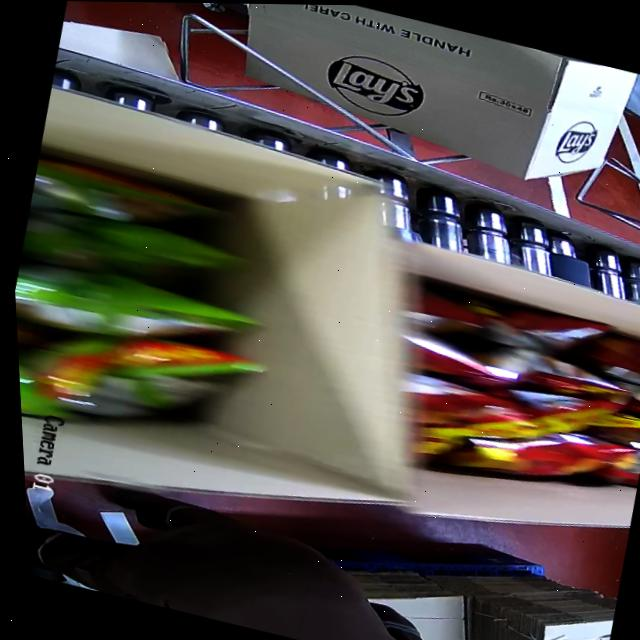MASALA: (385, 273, 640, 483)
YOGURT_HERB: (7, 144, 296, 480)
